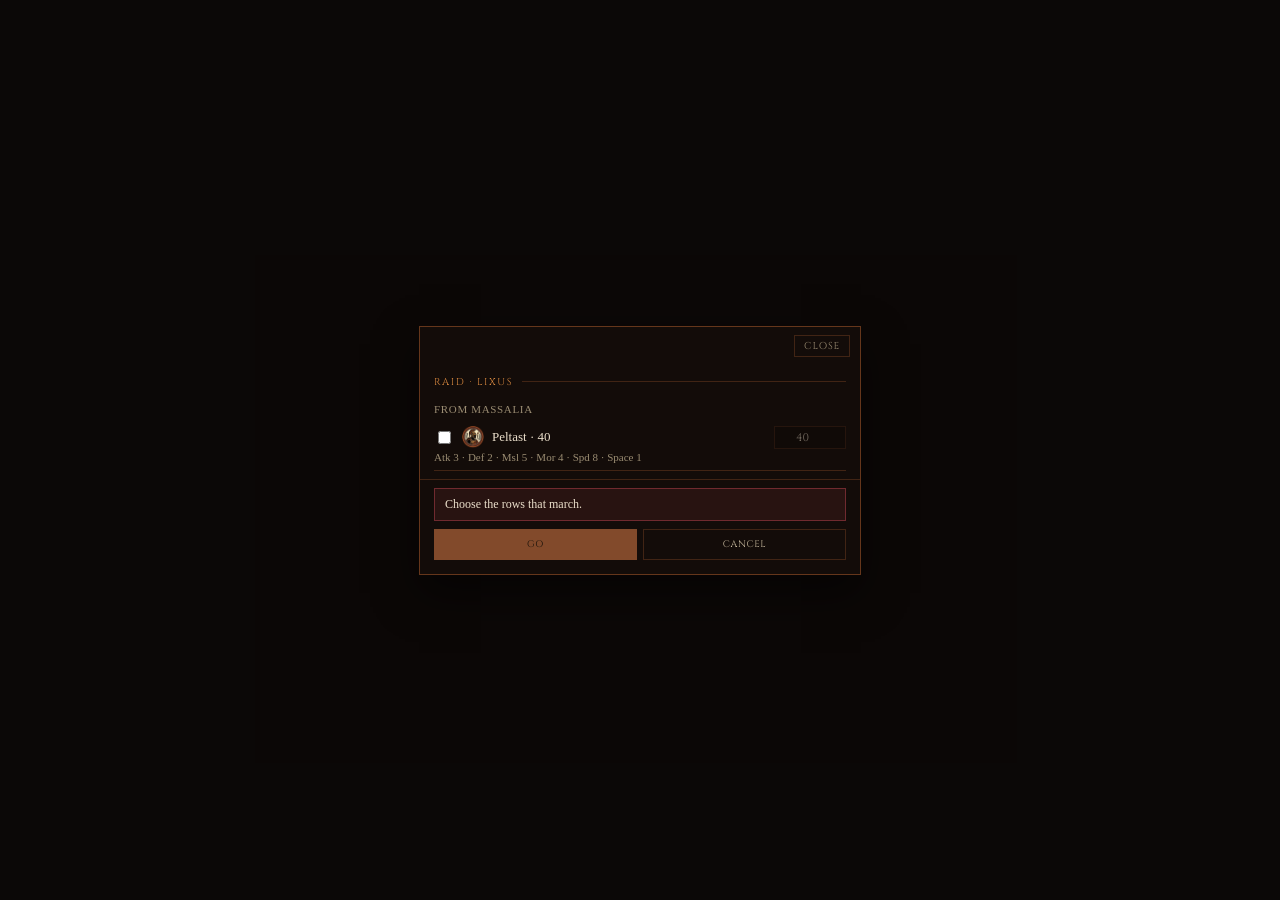
Scenario: action picker · ships section › a chosen hull that cannot make the crossing reads the range reason
Click the checkbox named "Peltast, 40" at point(444, 437), box x1=438 y1=430 x2=451 y2=444
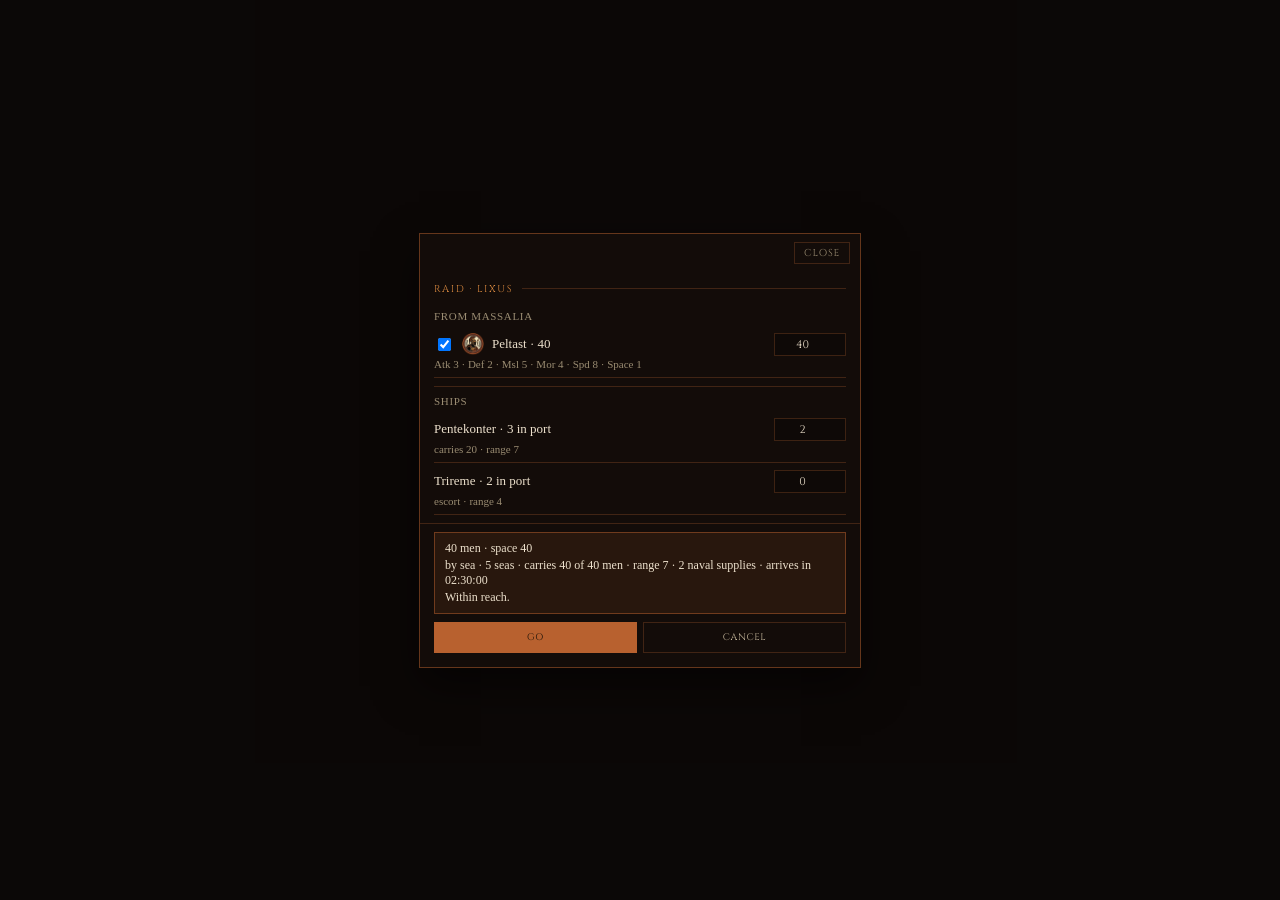
Result: the number field named "Triremes to sail" holds "0"
Replace the text in the number field named "Triremes to sail" with "1" at point(810, 481), box x1=774 y1=470 x2=846 y2=492
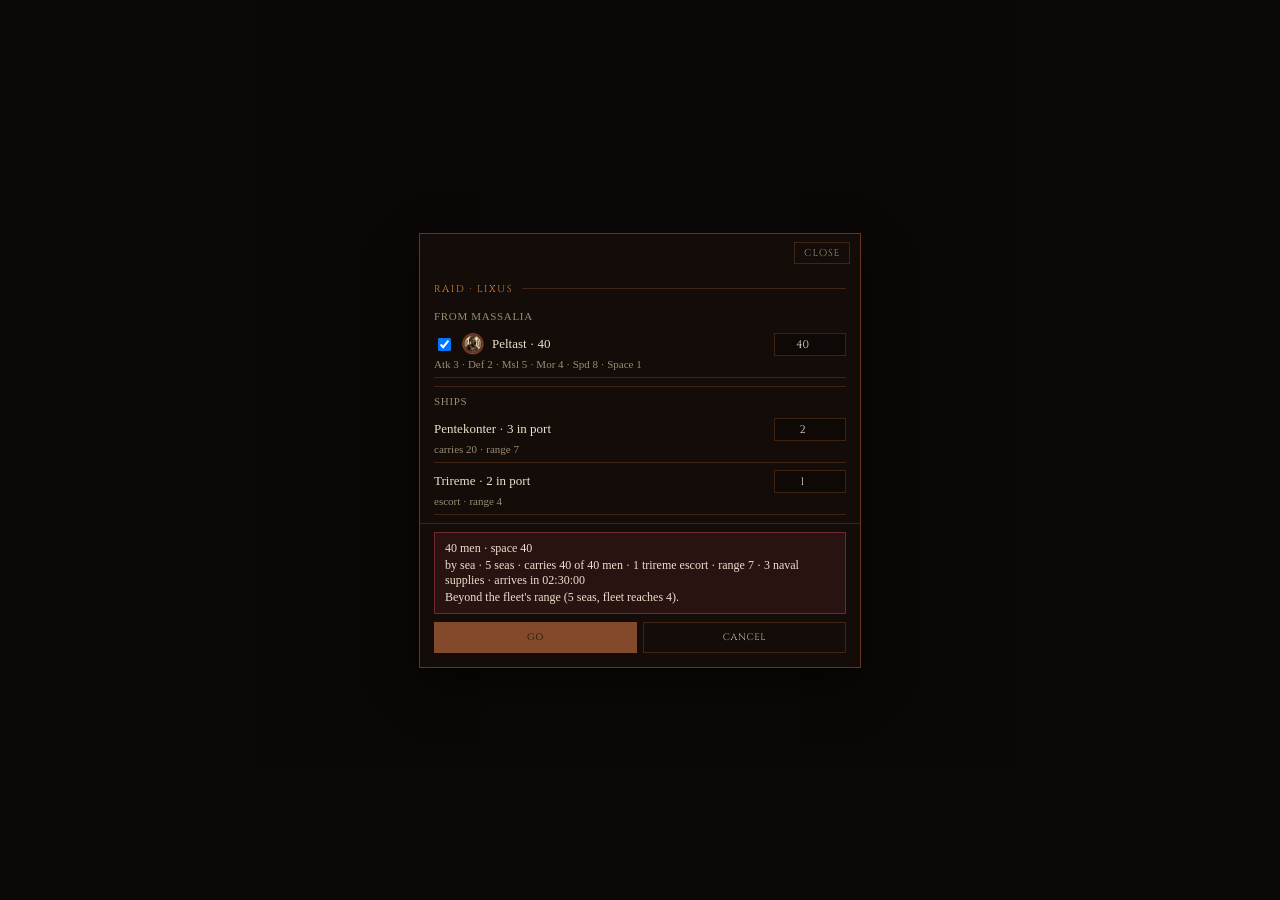
Result: the element with class "w2map-verdict" shows "Beyond the fleet's range (5 seas, fleet reaches 4)." at x1=445 y1=590 x2=679 y2=604
